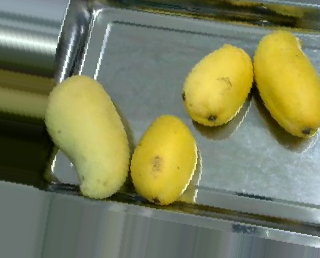Mango: (38, 69, 134, 205), (251, 25, 320, 140), (130, 113, 204, 205), (181, 42, 256, 129)
